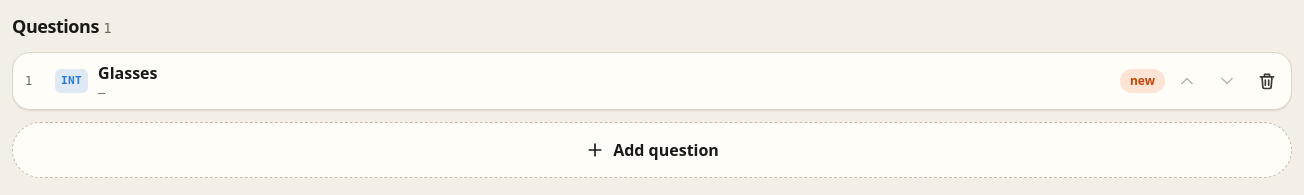
Test: the builder without questions › removes the last question, which leaves it with none
Check: the text "No questions: tapping this topic logs it." is not shown
Click the button named "Remove question" at (1267, 81), box [1249,63,1285,99]
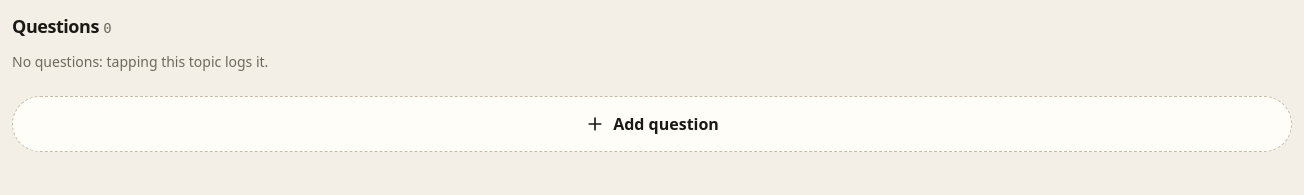
Check: the text "No questions: tapping this topic logs it." is shown, box [12,52,268,71]
